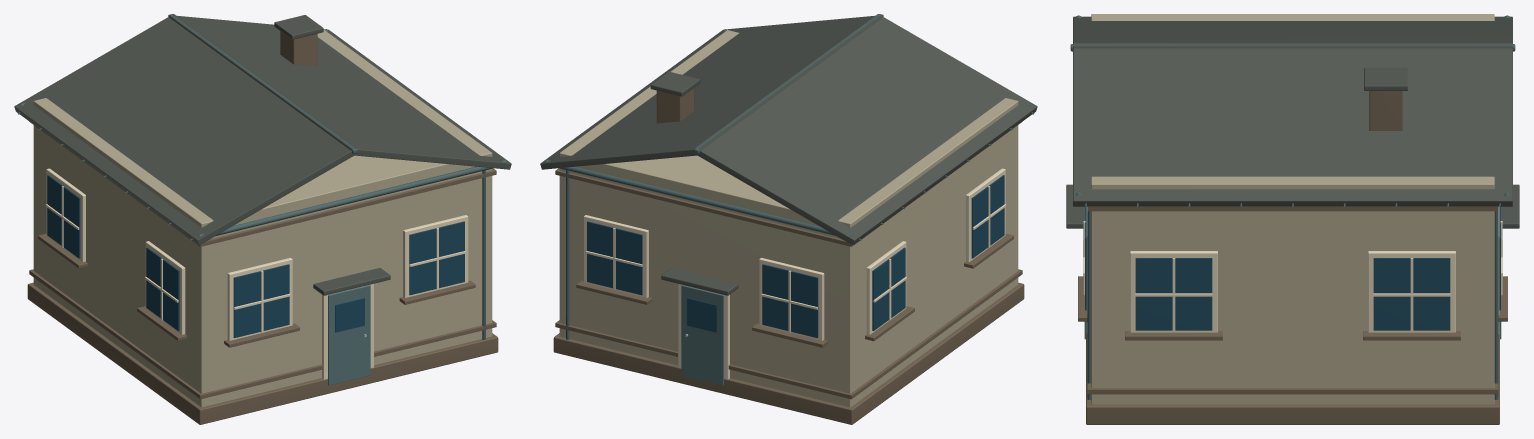
File: quarters.glb
3 views of the same model, side by side, from view 1: azimuth 30°, elevation 25°; view 2: azimuth 150°, elevation 25°; view 3: azimuth 270°, elevation 25° (orthographic). The views are drawn at different scales.
Parts seen in each view (by area): view 1: Walls, Mesh_Quarters_Root_roof, Mesh_Quarters_Root_brick, Mesh_Quarters_Root_glass, Mesh_Quarters_Root_ivory, Mesh_Quarters_Root_teal, Mesh_Quarters_Root_panel; view 2: Walls, Mesh_Quarters_Root_roof, Mesh_Quarters_Root_brick, Mesh_Quarters_Root_glass, Mesh_Quarters_Root_ivory, Mesh_Quarters_Root_teal, Mesh_Quarters_Root_panel; view 3: Mesh_Quarters_Root_roof, Walls, Mesh_Quarters_Root_brick, Mesh_Quarters_Root_glass, Mesh_Quarters_Root_ivory, Mesh_Quarters_Root_panel.
Part boxes in pixels (left/top/right/bottom): Walls: left=33, top=30, right=492, bottom=407; Mesh_Quarters_Root_roof: left=14, top=14, right=511, bottom=295; Mesh_Quarters_Root_brick: left=27, top=31, right=498, bottom=424; Mesh_Quarters_Root_glass: left=47, top=175, right=464, bottom=337; Mesh_Quarters_Root_ivory: left=45, top=168, right=468, bottom=379; Mesh_Quarters_Root_teal: left=328, top=285, right=370, bottom=385; Mesh_Quarters_Root_panel: left=17, top=14, right=506, bottom=339; Walls: left=559, top=30, right=1018, bottom=407; Mesh_Quarters_Root_roof: left=540, top=14, right=1037, bottom=295; Mesh_Quarters_Root_brick: left=553, top=88, right=1024, bottom=424; Mesh_Quarters_Root_glass: left=587, top=175, right=1004, bottom=337; Mesh_Quarters_Root_ivory: left=583, top=168, right=1006, bottom=379; Mesh_Quarters_Root_teal: left=681, top=285, right=723, bottom=385; Mesh_Quarters_Root_panel: left=545, top=14, right=1034, bottom=339; Mesh_Quarters_Root_roof: left=1066, top=16, right=1519, bottom=228; Walls: left=1091, top=14, right=1494, bottom=404; Mesh_Quarters_Root_brick: left=1078, top=91, right=1507, bottom=424; Mesh_Quarters_Root_glass: left=1085, top=206, right=1500, bottom=330; Mesh_Quarters_Root_ivory: left=1083, top=207, right=1502, bottom=333; Mesh_Quarters_Root_panel: left=1070, top=15, right=1515, bottom=399.
Size of the model in its own units: 8.51 by 6.51 by 8.76.
